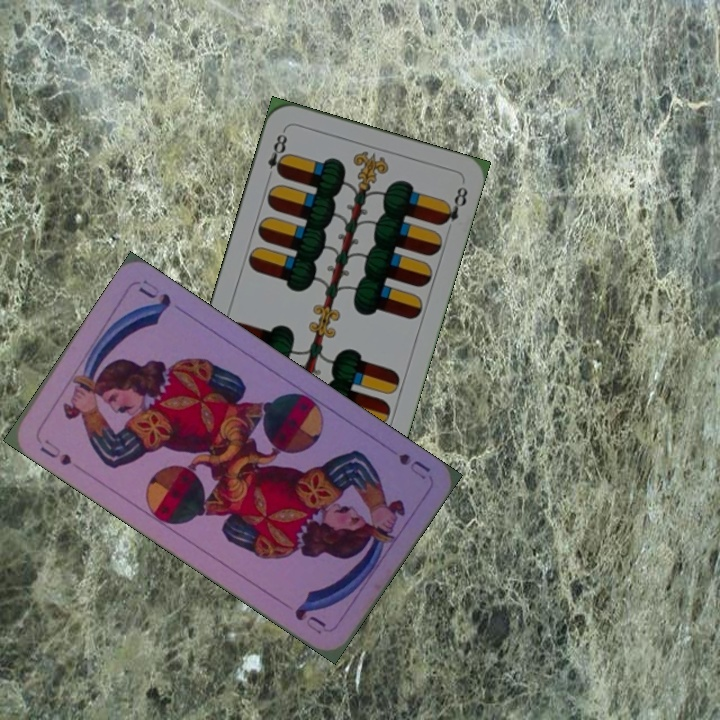E8: (263, 126, 290, 183)
SU: (394, 449, 433, 482), (36, 435, 74, 468)
